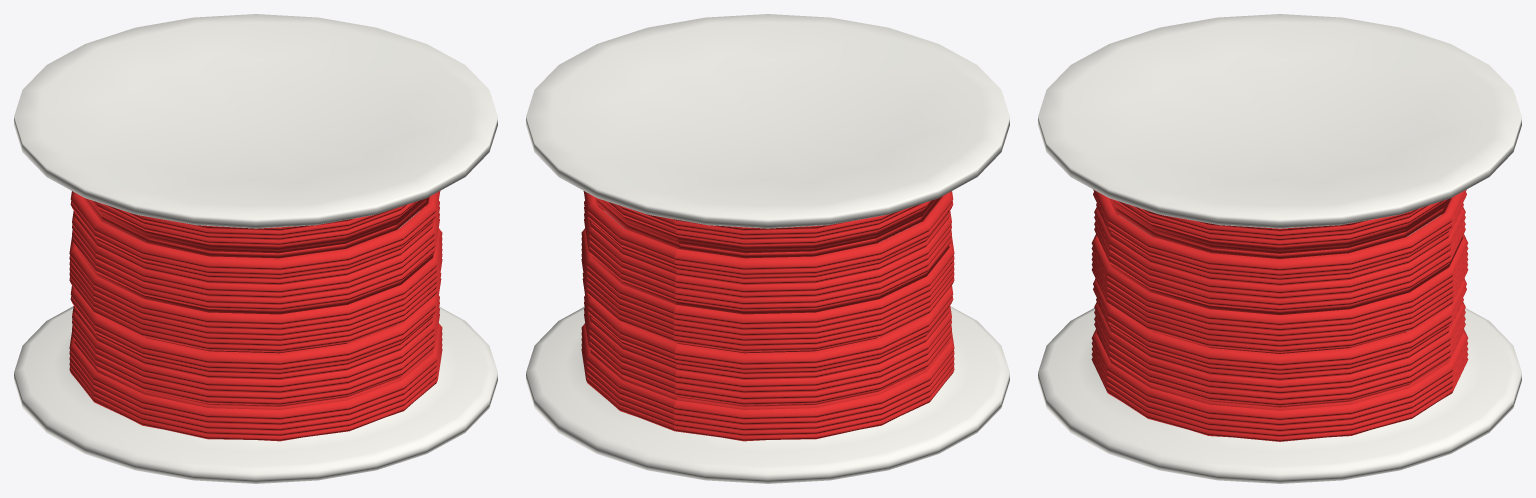
Rendered from RedWireYoyo.fbx.
The picture shows the model from 3 angles, left to right: view 1: azimuth 30°, elevation 25°; view 2: azimuth 150°, elevation 25°; view 3: azimuth 270°, elevation 25°; orthographic projection.
Visible parts, largest first — view 1: pCylinder2; view 2: pCylinder2; view 3: pCylinder2.
Boxes of the visible parts, x1=… form: pCylinder2: x1=14, y1=14, x2=497, y2=483; pCylinder2: x1=526, y1=14, x2=1009, y2=483; pCylinder2: x1=1038, y1=14, x2=1521, y2=483.
Size of the model in its own units: 170 by 105 by 170.
